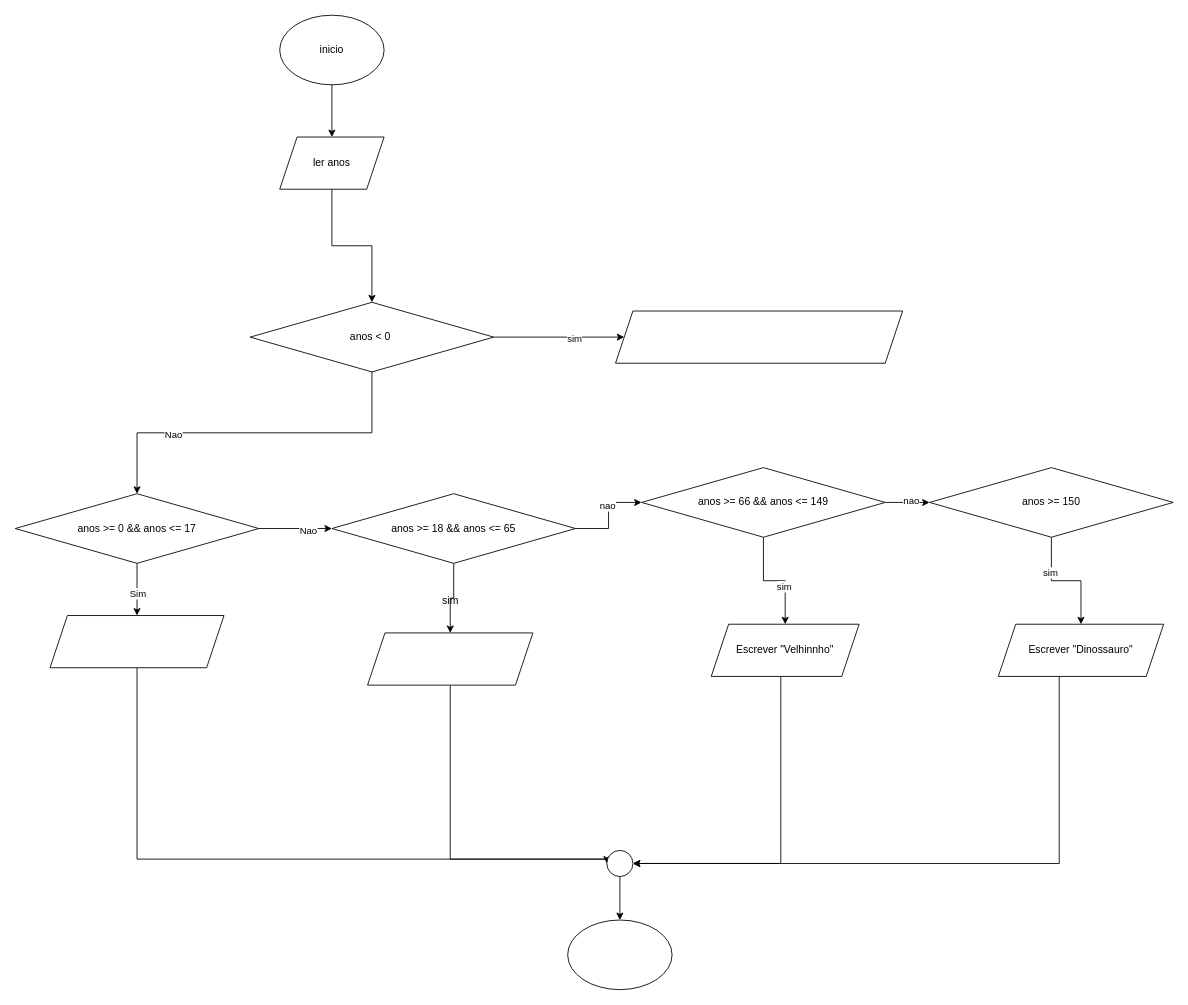
Image size: 1188x1005. Some labels were removed from this diagram. Each missing label, with the centre of its shape:
Escrever "Adulto": (450,658)
Escrever "Meteste agua. Aguarda processo de secagem.: (759,336)
Escrever "Puto": (136,641)
fim: (619,954)
